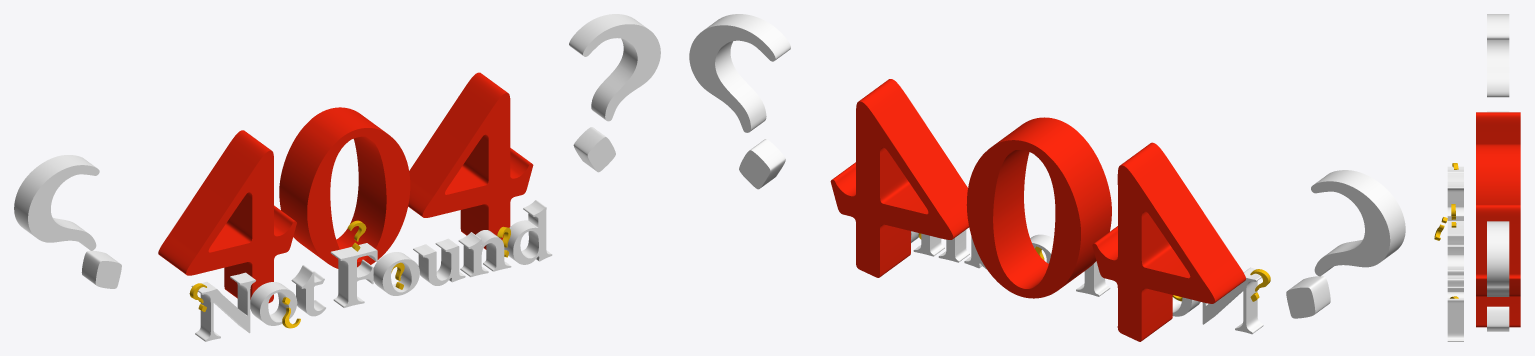
3 renders of one model, left to right at view 1: azimuth 30°, elevation 25°; view 2: azimuth 150°, elevation 25°; view 3: azimuth 270°, elevation 25°, orthographic. The views are drawn at different scales.
Parts seen in each view (by area): view 1: Text.001, Text, Text.002, Text.003; view 2: Text.001, Text.002, Text.003, Text; view 3: Text.001, Text, Text.002, Text.003, Text.008, Text.006.
Part boxes in pixels (left/top/right/bottom): Text.001: left=158, top=72, right=533, bottom=302; Text: left=191, top=200, right=552, bottom=341; Text.002: left=569, top=14, right=660, bottom=172; Text.003: left=14, top=155, right=121, bottom=288; Text.001: left=830, top=79, right=1245, bottom=341; Text.002: left=689, top=14, right=790, bottom=189; Text.003: left=1286, top=170, right=1405, bottom=318; Text: left=911, top=230, right=1263, bottom=334; Text.001: left=1476, top=112, right=1520, bottom=327; Text: left=1447, top=166, right=1463, bottom=341; Text.002: left=1487, top=221, right=1509, bottom=331; Text.003: left=1487, top=14, right=1509, bottom=112; Text.008: left=1434, top=217, right=1447, bottom=240; Text.006: left=1451, top=204, right=1456, bottom=227.
Size of the model in its own units: 7.26 by 2.12 by 1.07.
